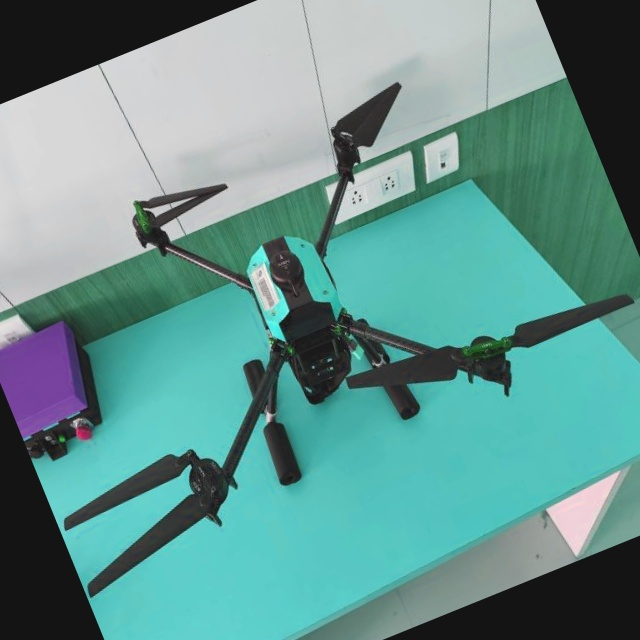quadcopter: (0, 21, 640, 610)
